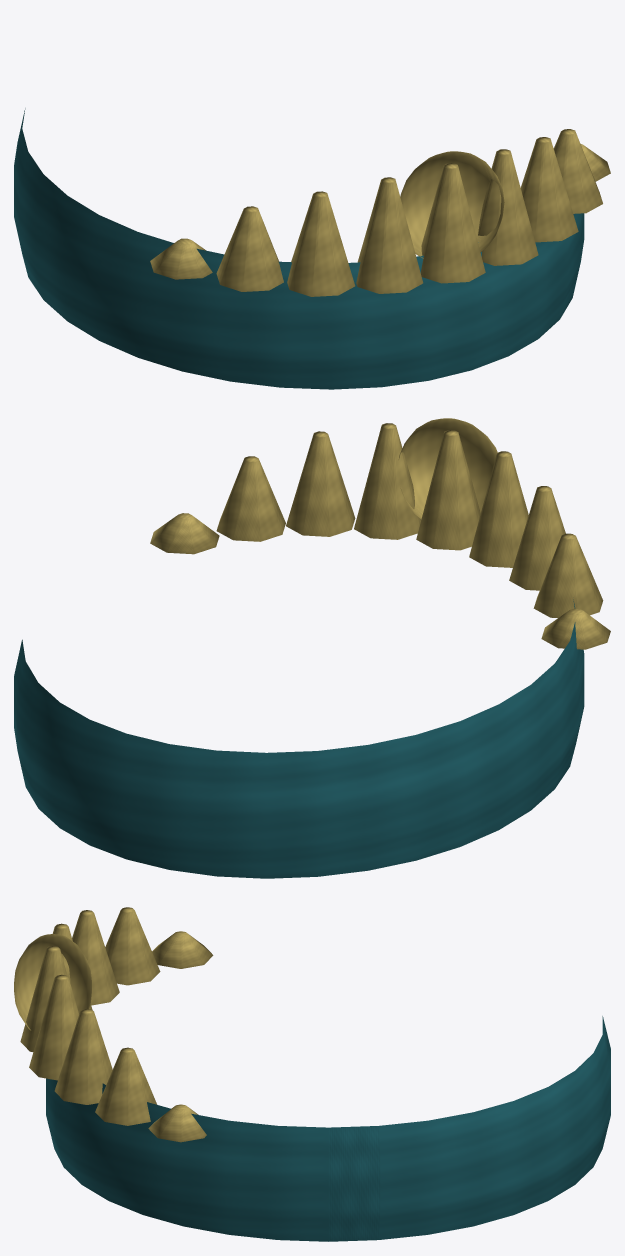
Rendered from luminous_circlet.glb.
3 views of the same model, one above another, from view 1: azimuth 30°, elevation 25°; view 2: azimuth 150°, elevation 25°; view 3: azimuth 270°, elevation 25° (orthographic). The views are drawn at different scales.
Visible parts, largest first — view 1: Luminous Compact Circlet; view 2: Luminous Compact Circlet; view 3: Luminous Compact Circlet.
Boxes of the visible parts, x1,y1,x2,y2 form: Luminous Compact Circlet: [14, 108, 610, 389]; Luminous Compact Circlet: [14, 418, 610, 878]; Luminous Compact Circlet: [14, 907, 610, 1241].
Bounding box in the file's own units: 0.2142 × 0.095 × 0.2558.
Materials: 2 (2 with a texture image).
